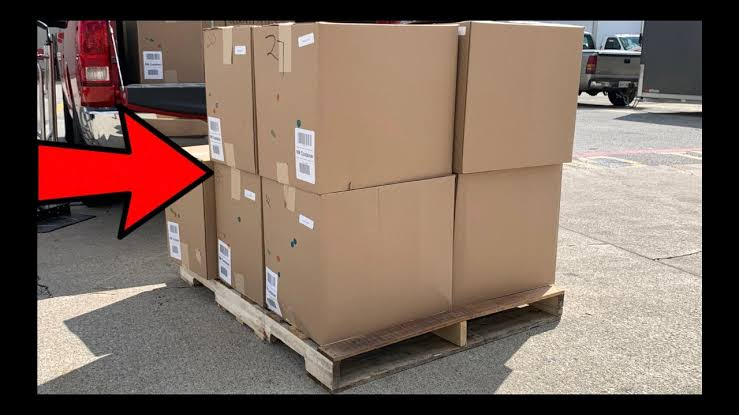box: (316, 21, 458, 196), (319, 168, 457, 348), (461, 18, 587, 175), (457, 162, 566, 305), (251, 21, 320, 200), (259, 178, 321, 350), (201, 25, 257, 182), (209, 163, 265, 311)
box_label: (293, 126, 317, 188), (204, 114, 225, 165), (214, 239, 233, 291), (263, 268, 281, 318), (165, 219, 183, 266)
pallet: (175, 260, 566, 395)
